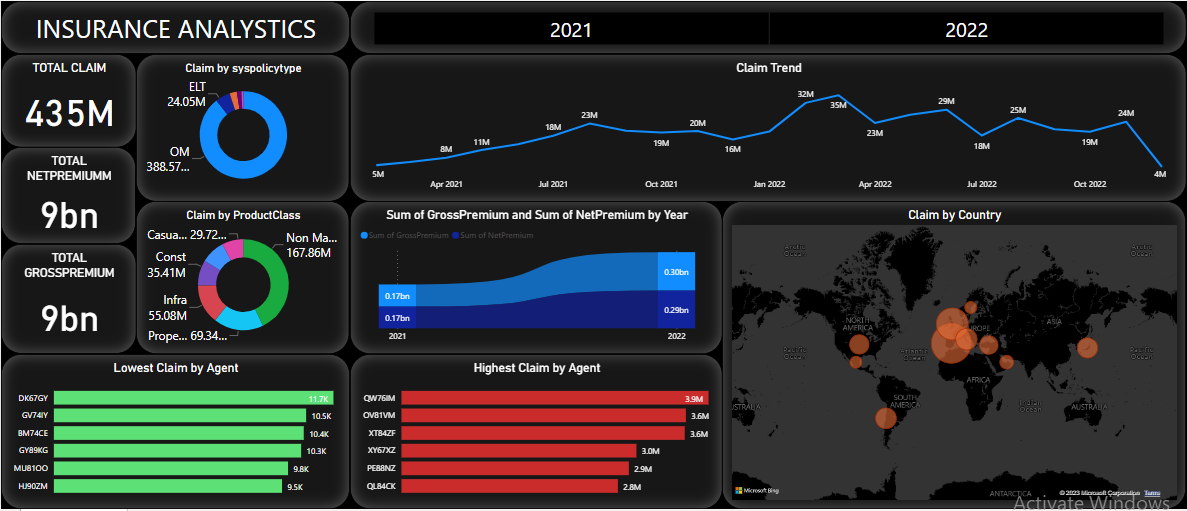

This screenshot's page, from the dashboard's own definition file:
{"tool":"powerbi","page":{"name":"INSURANCE","canvas":[1750,750],"ordinal":0},"visuals":[{"type":"map","title":"Claim by Country","fields":{"Category":["PolicyData.Country"],"Size":["Sum(ClaimsData.Claim)"]},"box":[1064.9,295.5,685.1,454.5],"z":0},{"type":"barChart","title":"Highest Claim by Agent","fields":{"Category":["PolicyData.Agent Code"],"Y":["Sum(ClaimsData.Claim)"]},"box":[514.6,521.1,550.3,228.9],"z":1000},{"type":"slicer","fields":{"Values":["ClaimsData.Year"]},"box":[514.6,0,1235.4,77.9],"z":2000},{"type":"donutChart","title":"Claim by ProductClass","fields":{"Category":["ClaimsData.ProductClass"],"Y":["Sum(ClaimsData.Claim)"]},"box":[199.7,295.5,314.9,225.6],"z":3000},{"type":"donutChart","title":"Claim by syspolicytype","fields":{"Y":["Sum(ClaimsData.Claim)"],"Category":["PolicyData.syspolicytype"]},"box":[199.7,77.9,314.9,217.5],"z":4000},{"type":"ribbonChart","fields":{"Category":["ClaimsData.Year"],"Y":["Sum(PolicyData.GrossPremium)","Sum(PolicyData.NetPremium)"]},"box":[514.6,295.5,550.3,225.6],"z":5000},{"type":"lineChart","title":"Claim Trend","fields":{"Y":["Sum(ClaimsData.Claim)"],"Category":["ClaimsData.Claim Dates.Variation.Date Hierarchy.Year","ClaimsData.Claim Dates.Variation.Date Hierarchy.Quarter","ClaimsData.Claim Dates.Variation.Date Hierarchy.Month"]},"box":[514.6,77.9,1235.4,217.5],"z":6000},{"type":"barChart","title":"Lowest Claim by Agent","fields":{"Category":["PolicyData.Agent Code"],"Y":["Sum(ClaimsData.Claim)"]},"box":[0,521.1,514.6,228.9],"z":7000},{"type":"card","title":"TOTAL CLAIM","fields":{"Values":["Sum(ClaimsData.Claim)"]},"box":[0,77.9,199.7,138],"z":8000},{"type":"textbox","box":[0,0,514.6,77.9],"z":9000},{"type":"card","title":"TOTAL GROSSPREMIUM","fields":{"Values":["Sum(PolicyData.GrossPremium)"]},"box":[0,358.8,199.7,162.3],"z":10000},{"type":"card","title":"TOTAL NETPREMIUMM","fields":{"Values":["Sum(PolicyData.NetPremium)"]},"box":[0,215.6,199.3,143.2],"z":11000}]}

Visuals, with their boxes in screenshot pixels (x1, y1, x2, y2), scaled from the page's 1750x750 canvas onto the 1187x511 screenshot:
"Claim by Country" map: 722 201 1186 510
"Highest Claim by Agent" barChart: 349 355 722 510
slicer - ClaimsData.Year: 349 0 1186 53
"Claim by ProductClass" donutChart: 135 201 349 355
"Claim by syspolicytype" donutChart: 135 53 349 201
ribbonChart - ClaimsData.Year x Sum(PolicyData.GrossPremium): 349 201 722 355
"Claim Trend" lineChart: 349 53 1186 201
"Lowest Claim by Agent" barChart: 0 355 349 510
"TOTAL CLAIM" card: 0 53 135 147
textbox: 0 0 349 53
"TOTAL GROSSPREMIUM" card: 0 244 135 355
"TOTAL NETPREMIUMM" card: 0 147 135 244
